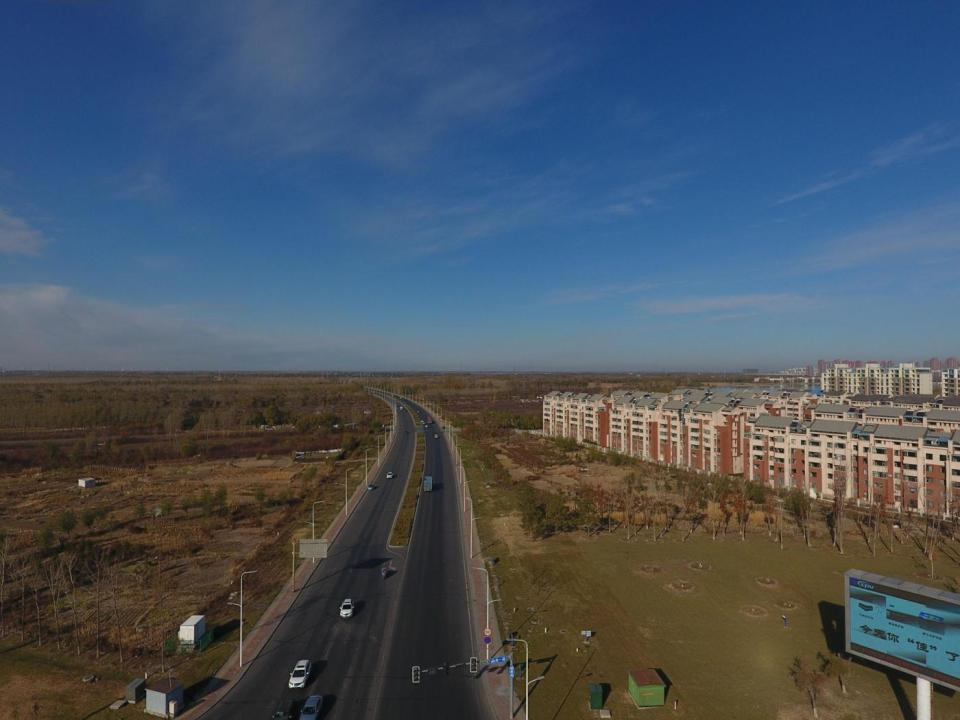car: (268, 698, 297, 720), (299, 693, 322, 720), (289, 661, 312, 688), (339, 599, 354, 617), (386, 472, 393, 480), (368, 485, 374, 490), (405, 431, 408, 434), (417, 410, 420, 413), (421, 420, 424, 422), (425, 425, 428, 427), (442, 426, 445, 428), (404, 410, 406, 412), (423, 422, 425, 424), (406, 398, 408, 400), (392, 394, 394, 396), (400, 397, 402, 398)
truck: (424, 474, 432, 491), (427, 417, 432, 424), (434, 434, 438, 438), (400, 407, 402, 410)
